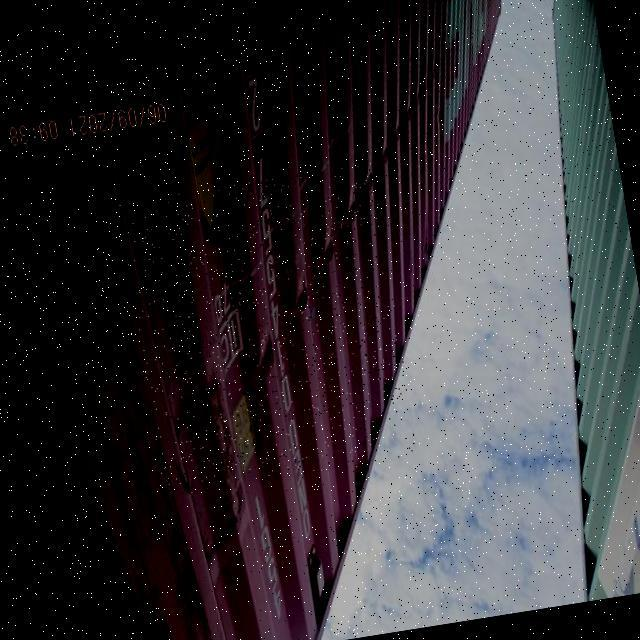Dent: (119, 163, 419, 497)
